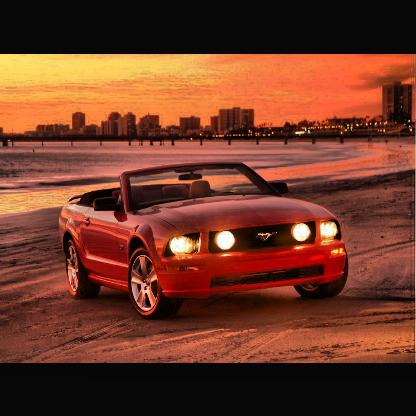Ford Mustang Convertible 2007: (60, 161, 350, 319)
